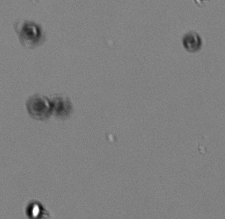Dead Cell: (27, 96, 50, 119), (19, 22, 40, 43), (183, 33, 201, 52), (52, 97, 70, 116)
Living Cell: (26, 201, 43, 218)
